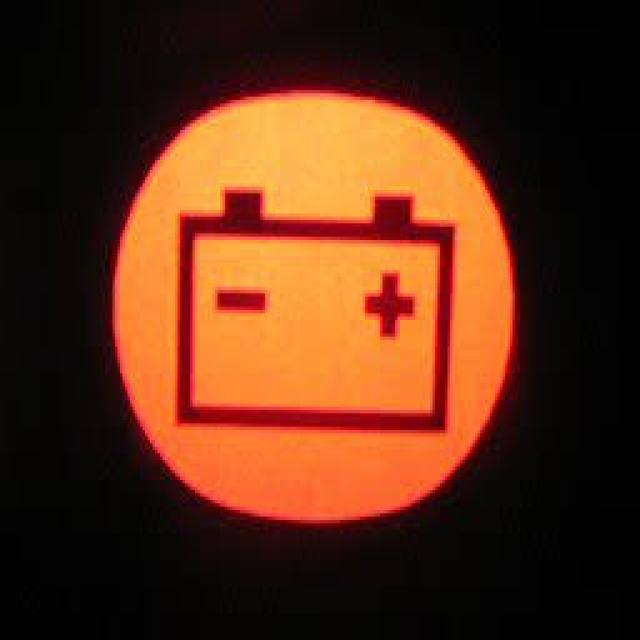kontrolka: (168, 161, 464, 447)
